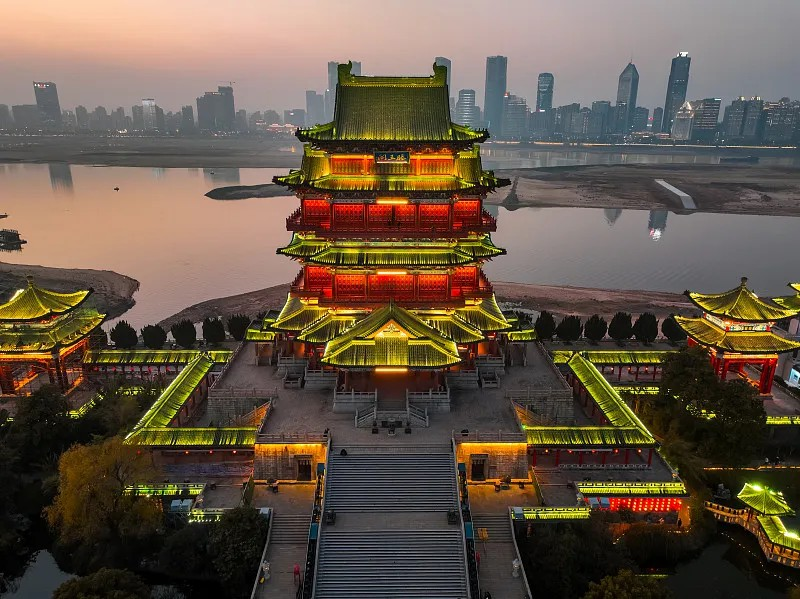Teng: (244, 60, 537, 401)
